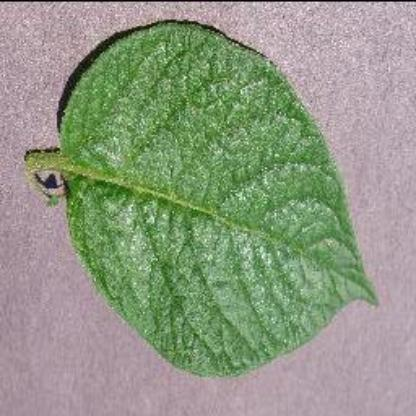Healthy-plant: (25, 20, 382, 382)
